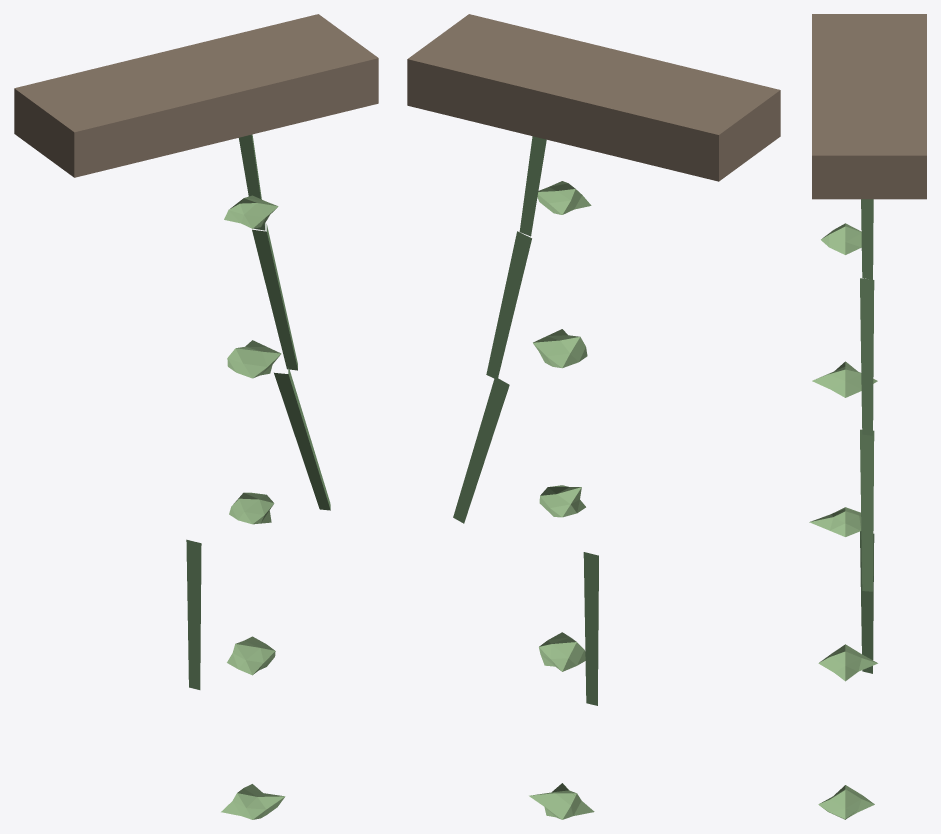
The model's file is vine_v02.glb.
3 views of the same model, side by side, from view 1: azimuth 30°, elevation 25°; view 2: azimuth 150°, elevation 25°; view 3: azimuth 270°, elevation 25° (orthographic). The views are drawn at different scales.
Parts seen in each view (by area): view 1: lod0; view 2: lod0; view 3: lod0.
Boxes of the visible parts, x1,y1,x2,y2 form: lod0: (14,14,378,819); lod0: (407,14,780,819); lod0: (809,14,926,819).
Size of what is drawn, in the model's own units: 0.7 by 1.64 by 0.2461.
